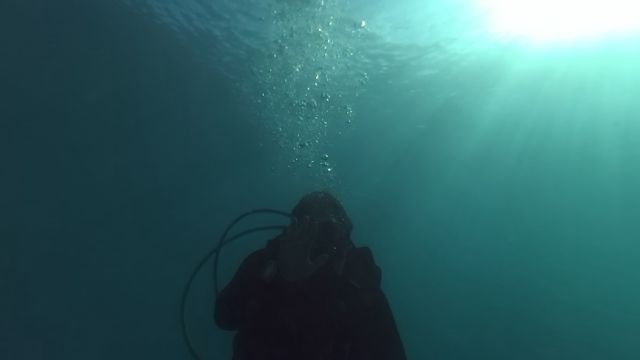Diver: (188, 173, 410, 358)
